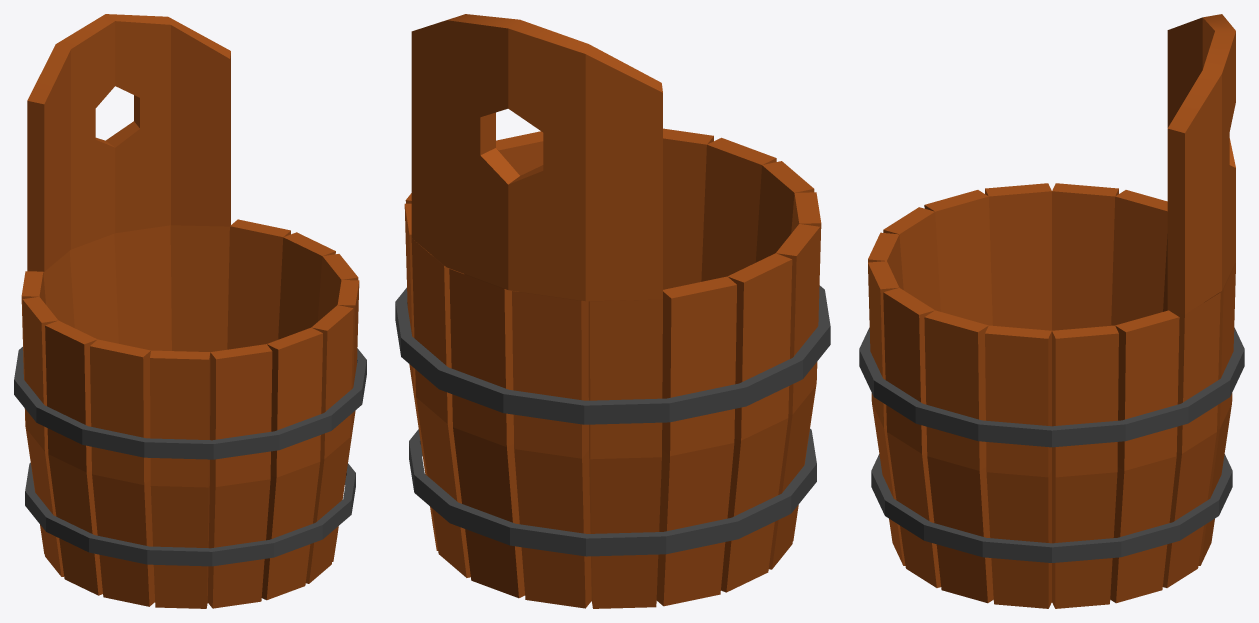
The model's file is bucket_4.FBX.
The picture shows the model from 3 angles, left to right: view 1: azimuth 30°, elevation 25°; view 2: azimuth 150°, elevation 25°; view 3: azimuth 270°, elevation 25°; orthographic projection. The views are drawn at different scales.
Parts seen in each view (by area): view 1: bucket_4; view 2: bucket_4; view 3: bucket_4.
Boxes of the visible parts, x1,y1,x2,y2 form: bucket_4: (14,14,366,608); bucket_4: (395,14,830,608); bucket_4: (859,14,1244,608).
Bounding box in the file's own units: 0.488 × 0.7143 × 0.488.
1 material, 1 textured.
